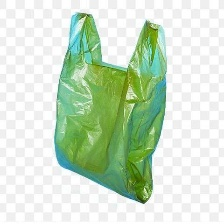plastic_bag: (53, 6, 169, 208)
